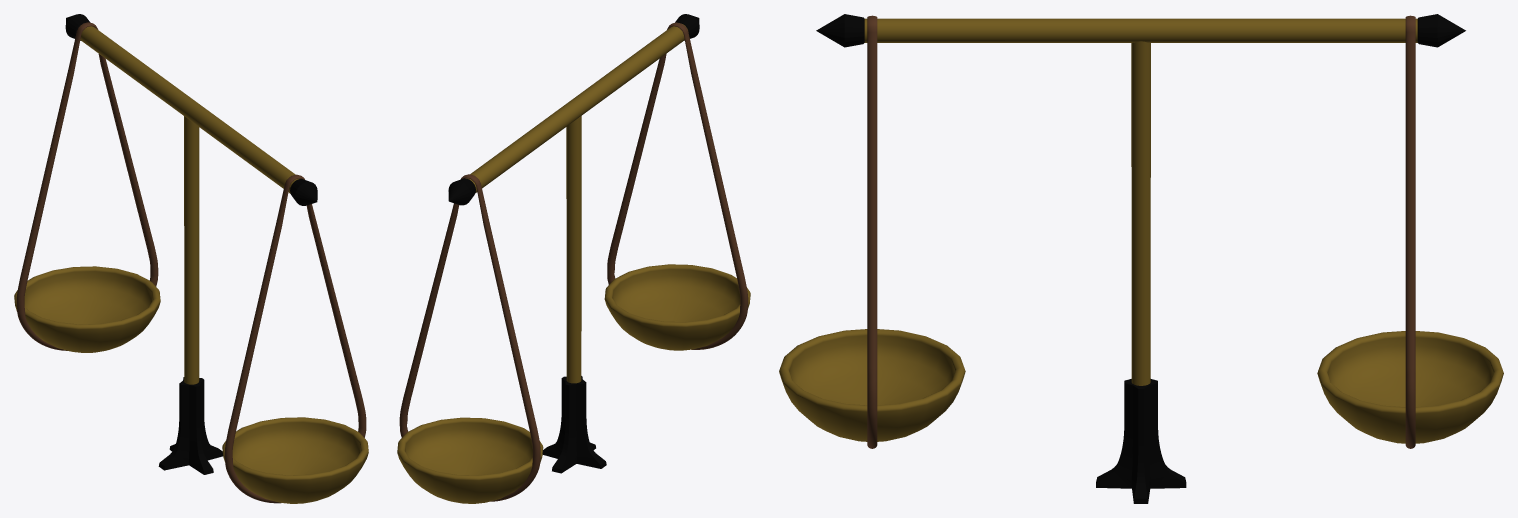
The model's file is Balanza.fbx.
3 views of the same model, side by side, from view 1: azimuth 30°, elevation 25°; view 2: azimuth 150°, elevation 25°; view 3: azimuth 270°, elevation 25° (orthographic). The views are drawn at different scales.
Visible parts, largest first — view 1: pCylinder7; view 2: pCylinder7; view 3: pCylinder7.
Part boxes in pixels (x1,y1,x2,y2): pCylinder7: (14,14,368,503); pCylinder7: (397,14,750,503); pCylinder7: (779,14,1503,503).
Bounding box in the file's own units: 6.45 × 15.93 × 22.29.
